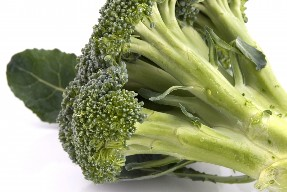broccoli: (51, 1, 286, 191)
